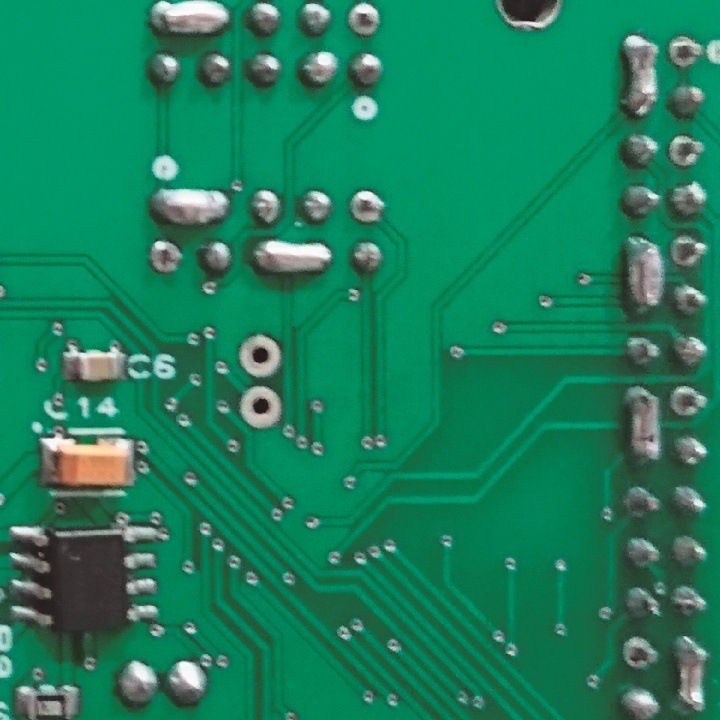F: (234, 332, 285, 379), (236, 380, 282, 432), (346, 187, 389, 229), (667, 382, 708, 423), (667, 131, 706, 172), (666, 32, 704, 74), (621, 634, 659, 673), (670, 232, 707, 272), (148, 235, 183, 276), (348, 3, 381, 38)
P: (144, 1, 236, 44), (147, 184, 234, 228), (248, 236, 334, 279), (620, 231, 663, 315), (619, 32, 660, 120), (621, 383, 664, 466), (672, 633, 707, 720)
